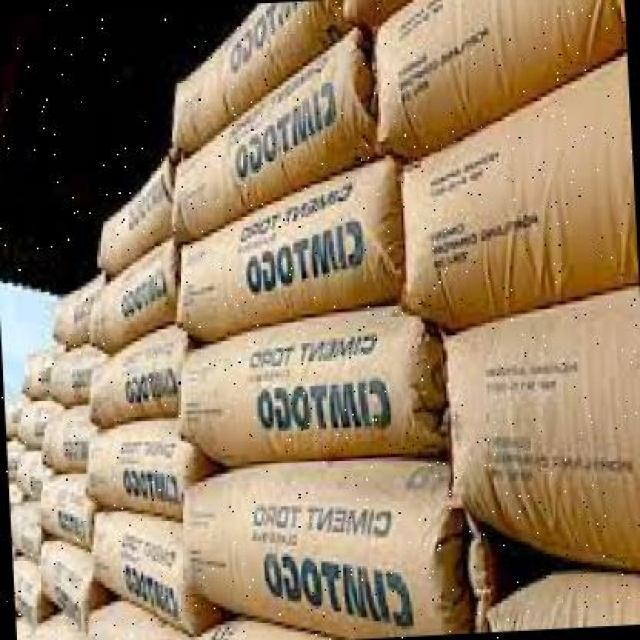gunny_bag: (397, 48, 638, 331), (440, 289, 640, 562), (186, 460, 451, 637), (175, 29, 381, 238), (180, 303, 449, 462), (177, 160, 404, 345), (374, 0, 626, 155), (170, 0, 352, 153), (483, 558, 640, 632), (97, 509, 185, 640), (83, 325, 189, 428), (87, 234, 176, 355), (85, 414, 179, 517), (98, 165, 171, 274), (40, 527, 94, 633), (188, 604, 340, 640), (40, 466, 94, 548), (83, 601, 184, 640), (39, 407, 101, 468), (49, 340, 109, 403), (54, 278, 103, 351), (16, 394, 64, 444), (13, 450, 56, 498), (20, 351, 55, 395), (15, 504, 38, 557), (345, 0, 400, 19), (4, 397, 32, 431), (6, 438, 26, 476), (15, 623, 55, 640)
